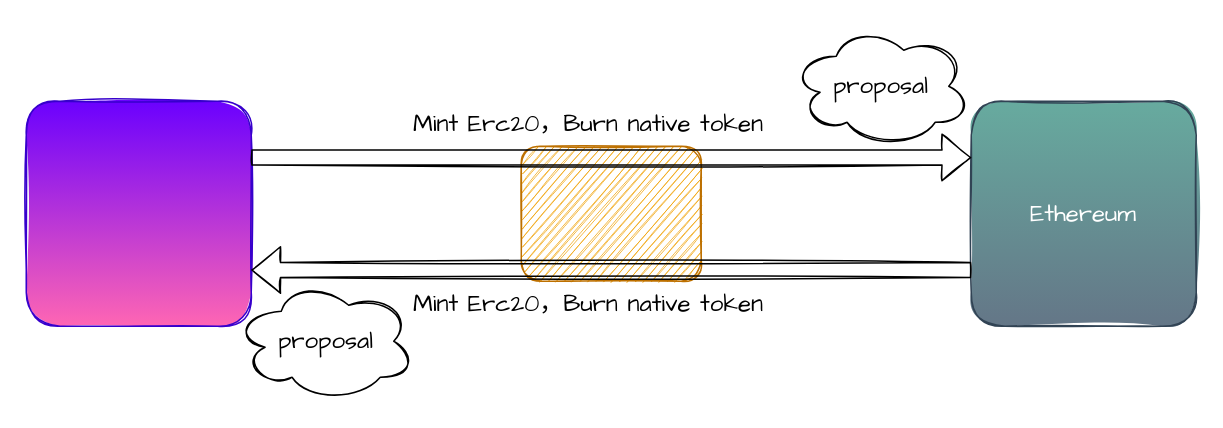
Some shapes in this 1223 by 428 pixel diagram are drawn without their labels. The shapes that lost their labels are listed below. From the top down, each one's box as (x1, y1, x2, y2) in pixels, then its label:
(25, 100, 251, 326): Parachain
(520, 145, 701, 281): Relayers
